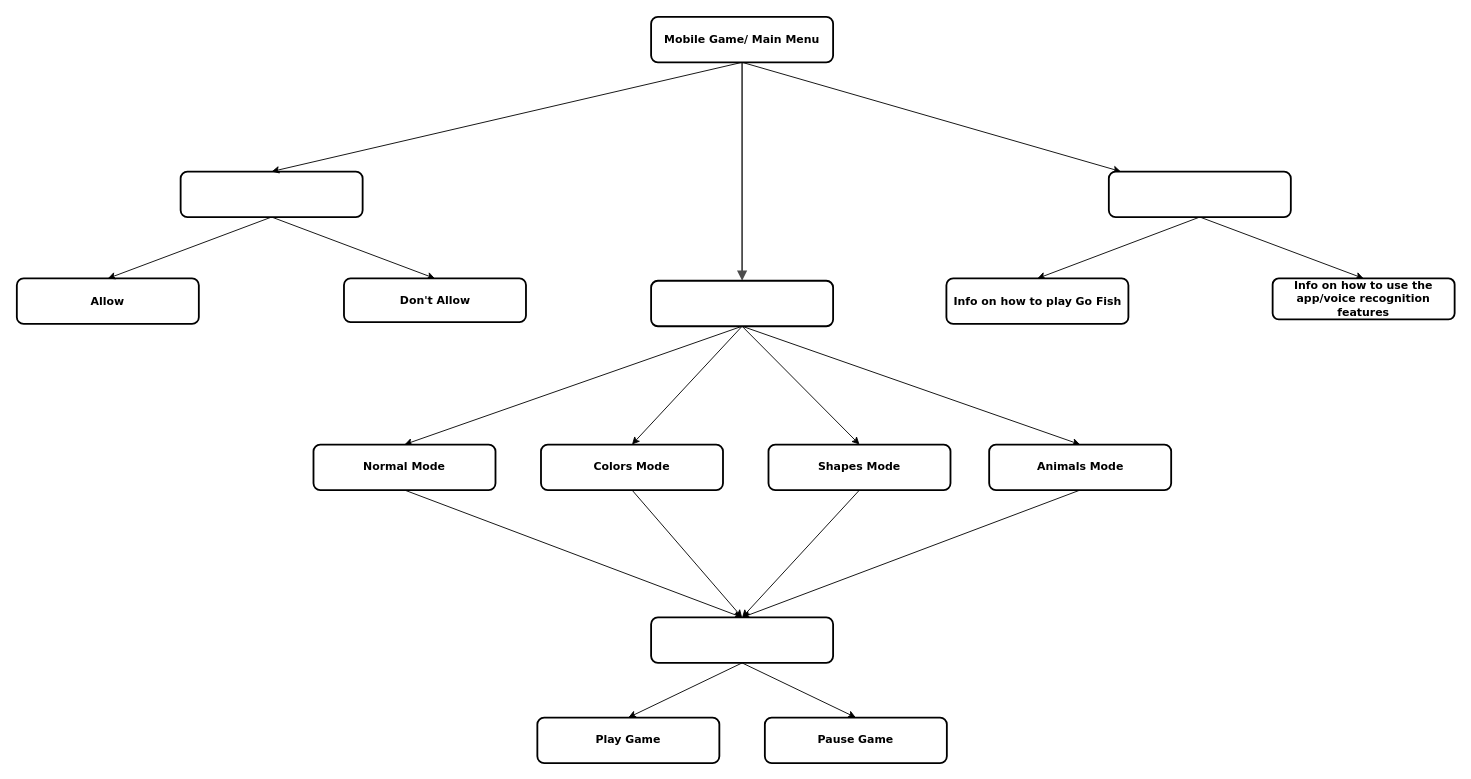
Image size: 1471x779. Some labels were removed from this diagram. The centre of each missing label's shape, as x and y in pixels:
Go Fish Game: [742,639]
Help & Button Info: [1199,193]
Microphone Permissions (On launch): [271,193]
Themes: [742,303]
